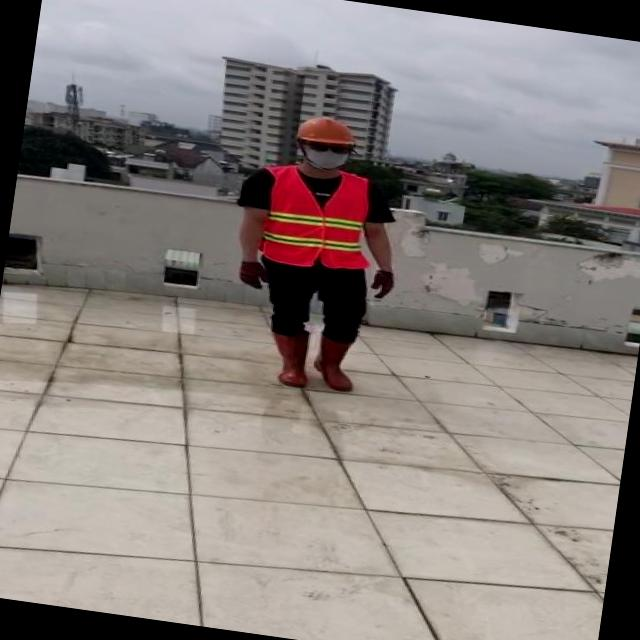boots: (264, 329, 314, 388), (310, 332, 356, 392)
helmet: (294, 112, 358, 150)
vest: (256, 162, 378, 274)
